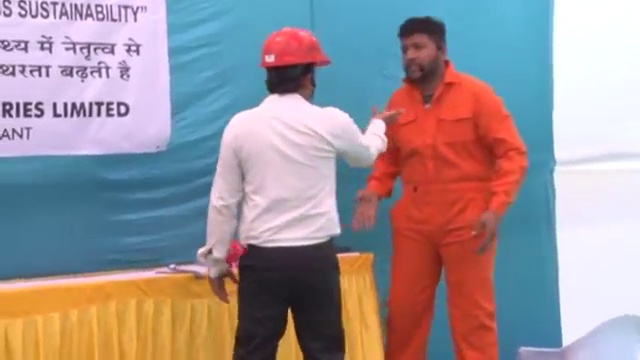helmet: (256, 22, 332, 67)
helmet_off: (394, 15, 449, 85)
helmet_on: (255, 22, 334, 102)
person: (203, 21, 397, 360), (352, 15, 532, 360)
